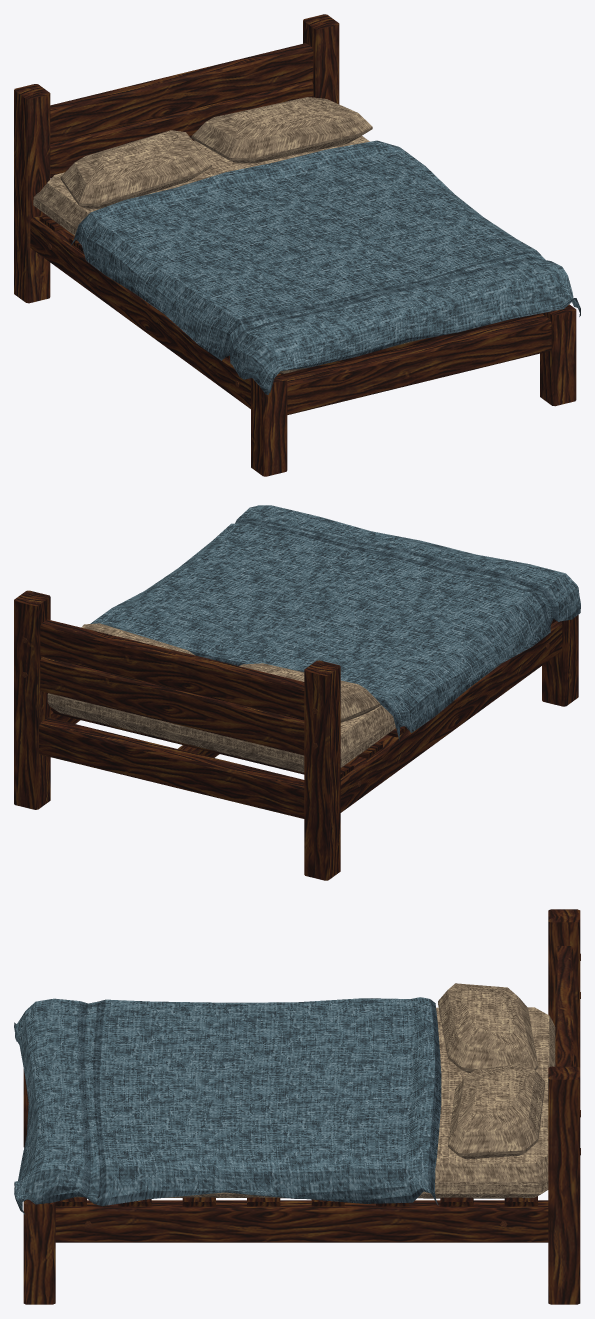
Rendered from Cama-Casal-Manta-Azul.glb.
3 views of the same model, one above another, from view 1: azimuth 30°, elevation 25°; view 2: azimuth 150°, elevation 25°; view 3: azimuth 270°, elevation 25° (orthographic). The views are drawn at different scales.
Parts seen in each view (by area): view 1: Manta, Pés e montantes, Cabeceira, Travessas das pontas, Travesseiro 2, Travesseiro 1, Travessas laterais, Colchao, Estrado; view 2: Manta, Cabeceira, Pés e montantes, Travessas das pontas, Travessas laterais, Colchao, Travesseiro 1, Estrado, Travesseiro 2; view 3: Manta, Travessas laterais, Pés e montantes, Colchao, Travesseiro 2, Travesseiro 1, Cabeceira, Estrado.
Boxes of the visible parts, box(x1,y1,x2,y2) form: Manta: box(70, 140, 580, 394); Pés e montantes: box(14, 14, 576, 476); Cabeceira: box(50, 43, 313, 178); Travessas das pontas: box(285, 314, 551, 414); Travesseiro 2: box(191, 97, 372, 163); Travesseiro 1: box(60, 130, 211, 208); Travessas laterais: box(30, 214, 250, 408); Colchao: box(33, 136, 423, 373); Estrado: box(39, 215, 539, 376); Manta: box(90, 505, 580, 740); Cabeceira: box(40, 619, 304, 755); Pés e montantes: box(14, 590, 578, 880); Travessas das pontas: box(39, 717, 304, 818); Travessas laterais: box(50, 621, 562, 812); Colchao: box(47, 693, 395, 772); Travesseiro 1: box(239, 663, 380, 722); Estrado: box(50, 619, 556, 778); Travesseiro 2: box(81, 623, 195, 655); Manta: box(14, 997, 441, 1214); Travessas laterais: box(55, 1200, 548, 1242); Pés e montantes: box(23, 909, 580, 1304); Colchao: box(75, 1007, 555, 1198); Travesseiro 2: box(448, 1063, 545, 1159); Travesseiro 1: box(438, 983, 538, 1072); Cabeceira: box(555, 946, 573, 1066); Estrado: box(55, 1196, 537, 1206).
Bounding box in the file's own units: 1.53 × 0.894 × 2.03.
Materials: 3 (3 with a texture image).
